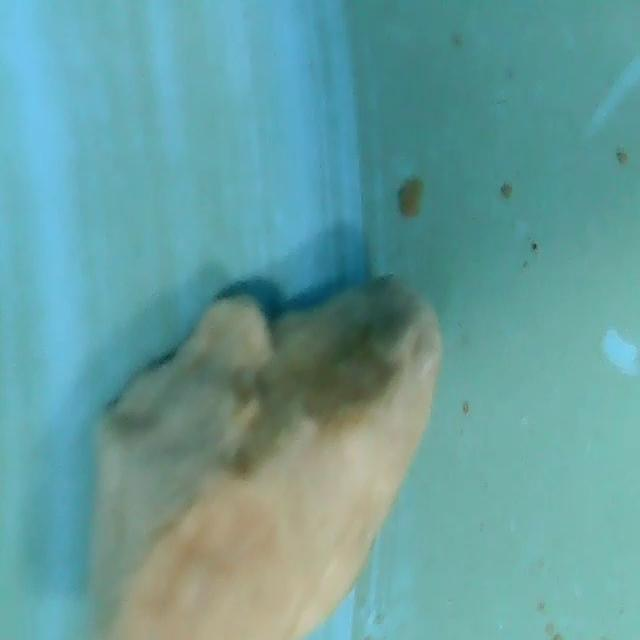rock: (87, 268, 448, 640)
